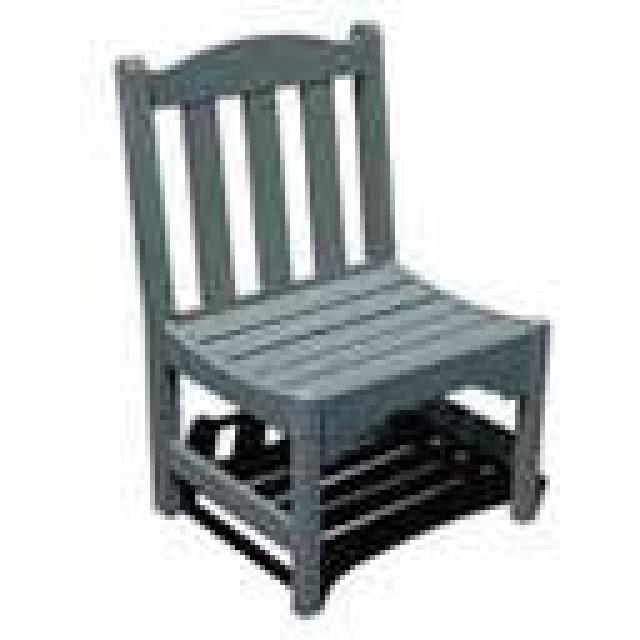chair: (110, 15, 550, 615)
